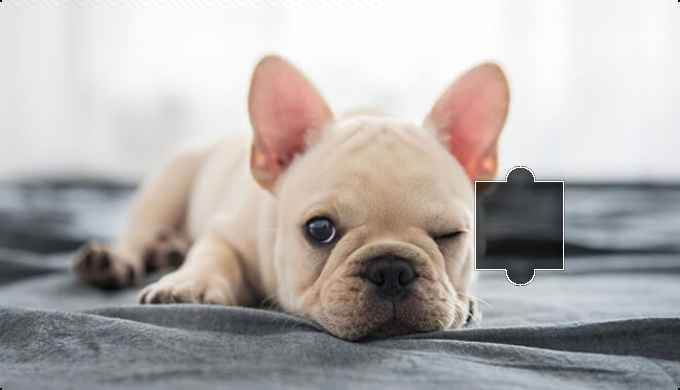gap: (478, 165, 562, 286)
